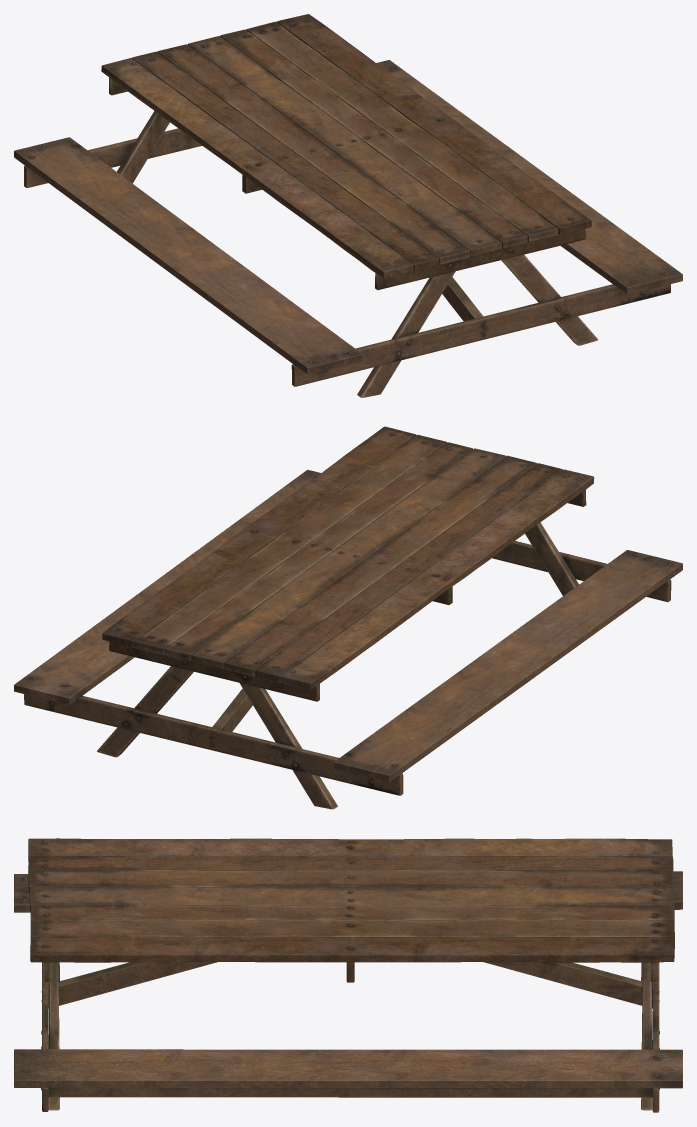
File: wooden_picnic_table.glb
3 renders of one model, top to bottom at view 1: azimuth 30°, elevation 25°; view 2: azimuth 150°, elevation 25°; view 3: azimuth 270°, elevation 25°, orthographic. The views are drawn at different scales.
Parts seen in each view (by area): view 1: wooden_picnic_table; view 2: wooden_picnic_table; view 3: wooden_picnic_table.
Part boxes in pixels (box(x1,y1,x2,y2)): wooden_picnic_table: box(14, 14, 682, 397); wooden_picnic_table: box(14, 426, 682, 809); wooden_picnic_table: box(14, 838, 682, 1112).
Bounding box in the file's own units: 2.24 × 0.746 × 3.02.
2 materials, 2 textured.
